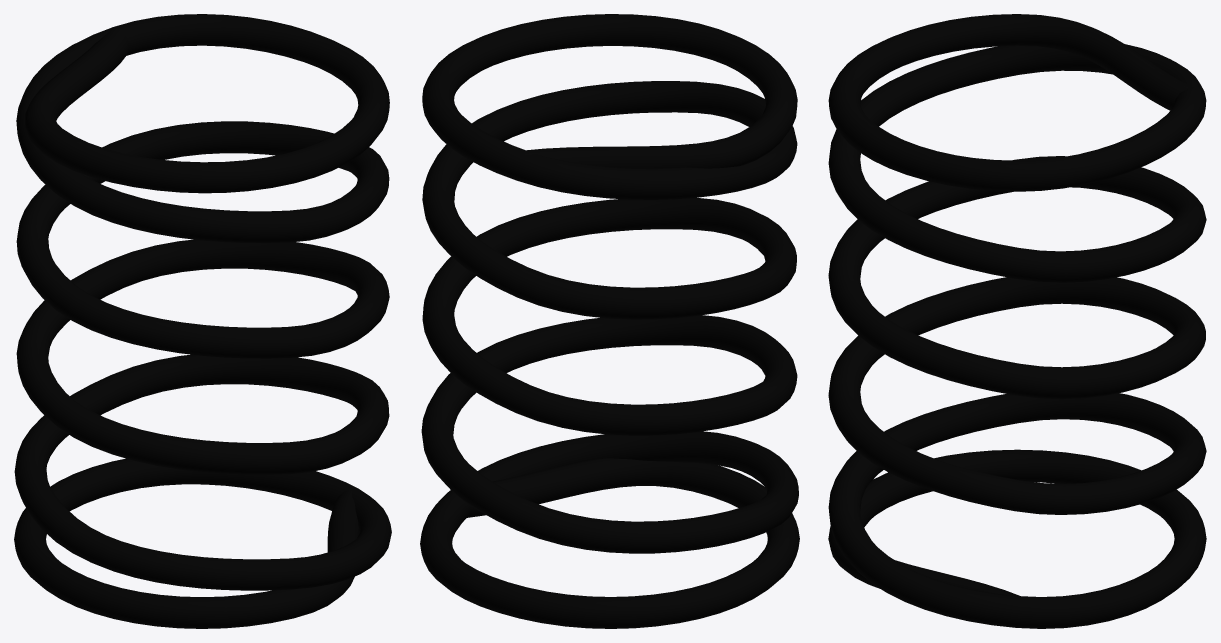
File: MSH_reel_rope.fbx
3 renders of one model, left to right at view 1: azimuth 30°, elevation 25°; view 2: azimuth 150°, elevation 25°; view 3: azimuth 270°, elevation 25°, orthographic.
Parts seen in each view (by area): view 1: MSH_reel_rope_01; view 2: MSH_reel_rope_01; view 3: MSH_reel_rope_01.
Boxes of the visible parts, bbox=[...] form: MSH_reel_rope_01: bbox=[14, 14, 391, 628]; MSH_reel_rope_01: bbox=[420, 14, 799, 628]; MSH_reel_rope_01: bbox=[828, 14, 1206, 628].
Size of the model in its own units: 1.18 by 1.62 by 1.18.
